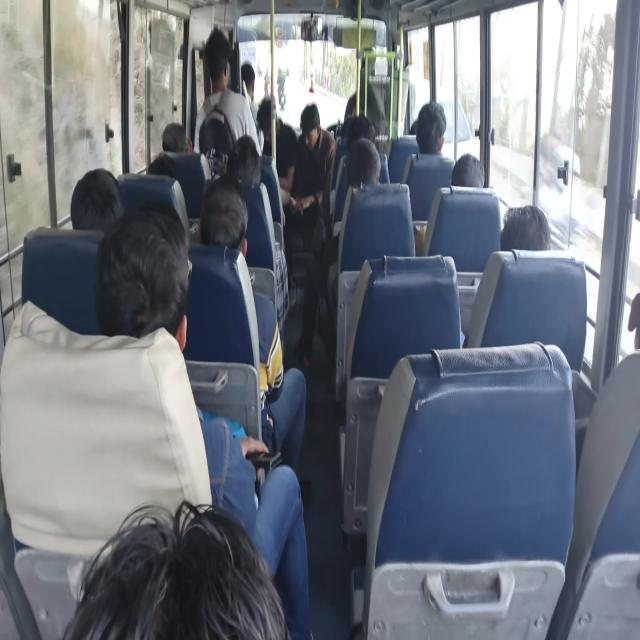person: (92, 471, 284, 640), (115, 212, 191, 376), (73, 167, 122, 247), (210, 23, 247, 122), (204, 197, 254, 270), (504, 198, 548, 260), (234, 134, 273, 197), (161, 111, 194, 171), (422, 97, 454, 156), (298, 112, 324, 172), (351, 146, 384, 192), (255, 107, 283, 156), (452, 155, 487, 192), (151, 152, 179, 198), (345, 117, 370, 150), (401, 106, 422, 144), (632, 277, 640, 348), (240, 62, 260, 87)
